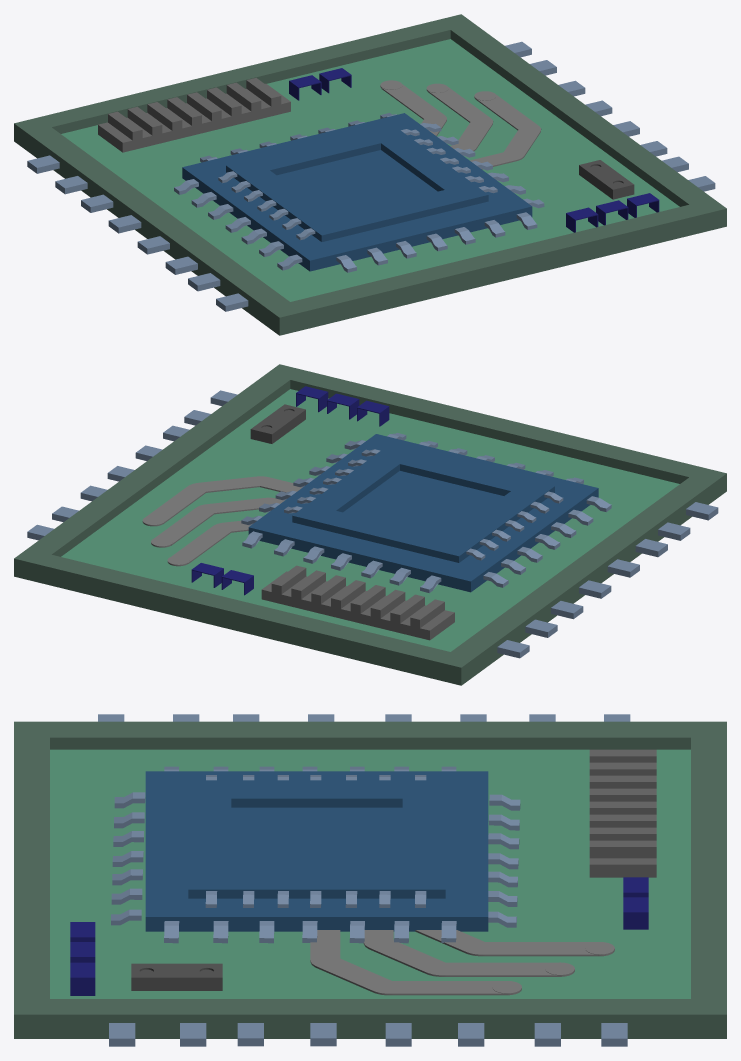
The model's file is PuceGeo.fbx.
The picture shows the model from 3 angles, top to bottom: view 1: azimuth 30°, elevation 25°; view 2: azimuth 150°, elevation 25°; view 3: azimuth 270°, elevation 25°; orthographic projection. The views are drawn at different scales.
Parts seen in each view (by area): view 1: chipgeo; view 2: chipgeo; view 3: chipgeo.
Part boxes in pixels (x1,y1,x2,y2): chipgeo: [14, 14, 726, 335]; chipgeo: [14, 364, 726, 685]; chipgeo: [14, 714, 726, 1046].
Bounding box in the file's own units: 91.84 × 6.74 × 85.55.
